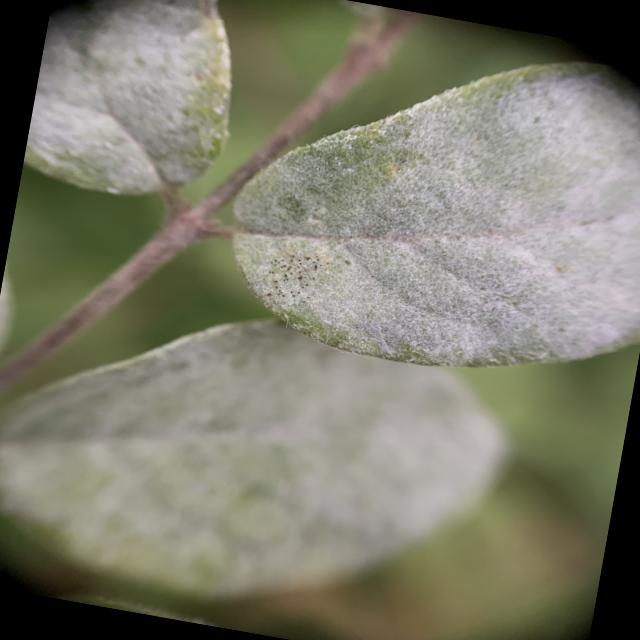powdery_mildew: (0, 320, 504, 599), (233, 63, 640, 367), (23, 0, 231, 194)
